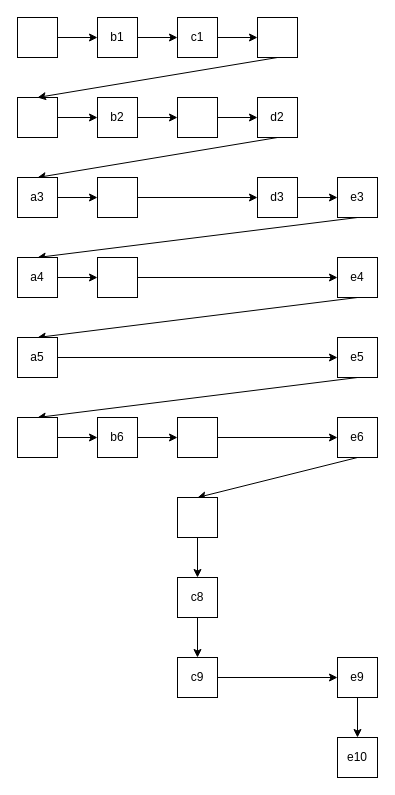
Some shapes in this 395 by 795 pixel diagram are drawn without their labels. The centre of each missing label's shape, as x and y in pixels:
"a1" belongs at [37,37].
"a2" belongs at [37,117].
"a6" belongs at [37,437].
"b3" belongs at [117,197].
"b4" belongs at [117,277].
"c2" belongs at [197,117].
"c6" belongs at [197,437].
"c7" belongs at [197,517].
"d1" belongs at [277,37].
